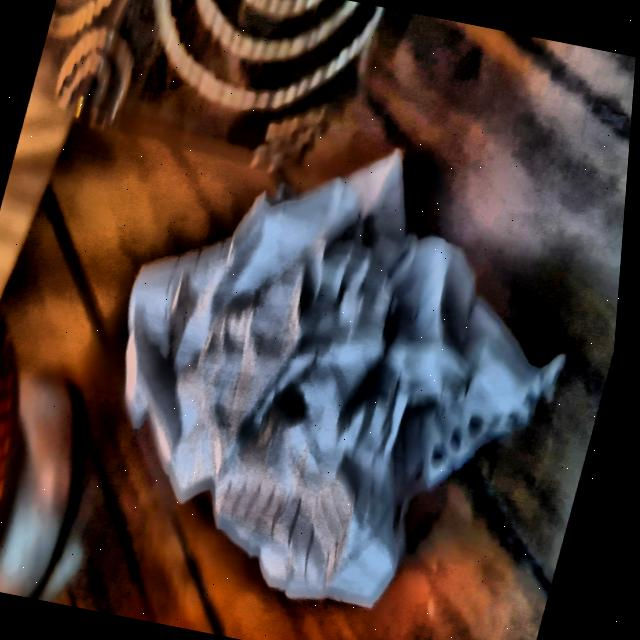paper: (52, 110, 587, 632)
